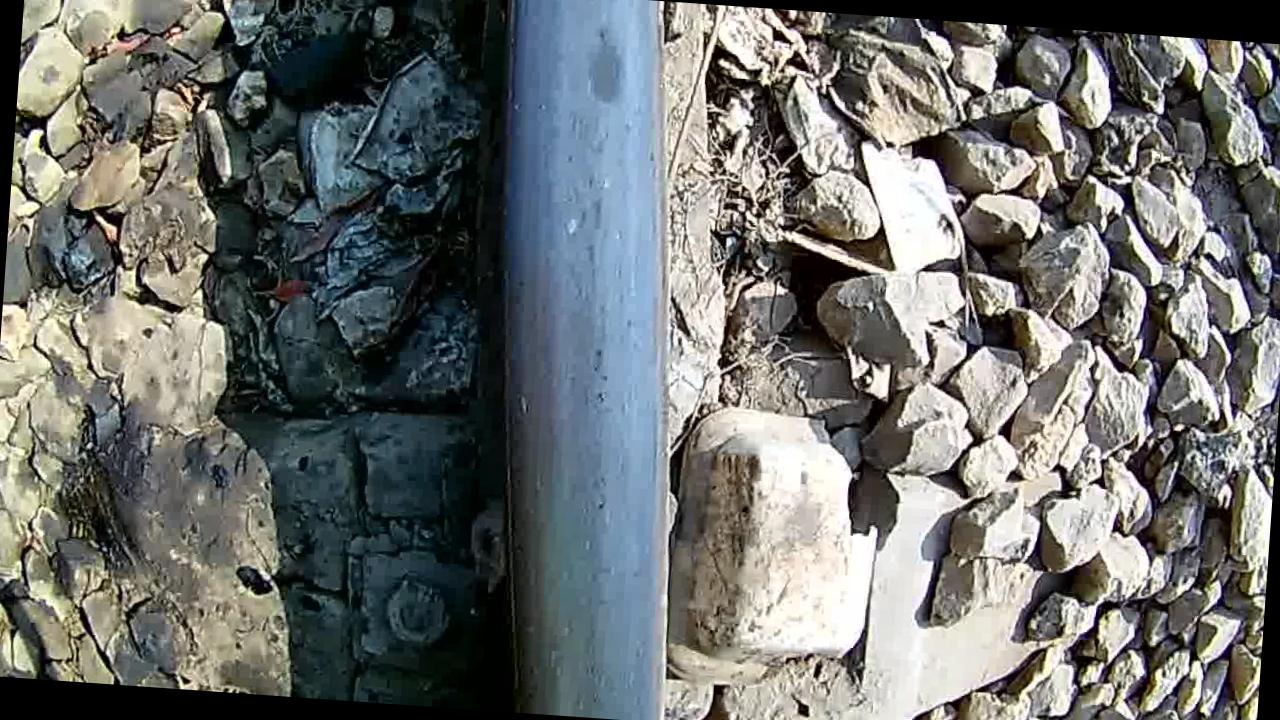bolt_missing: (489, 0, 663, 237)
